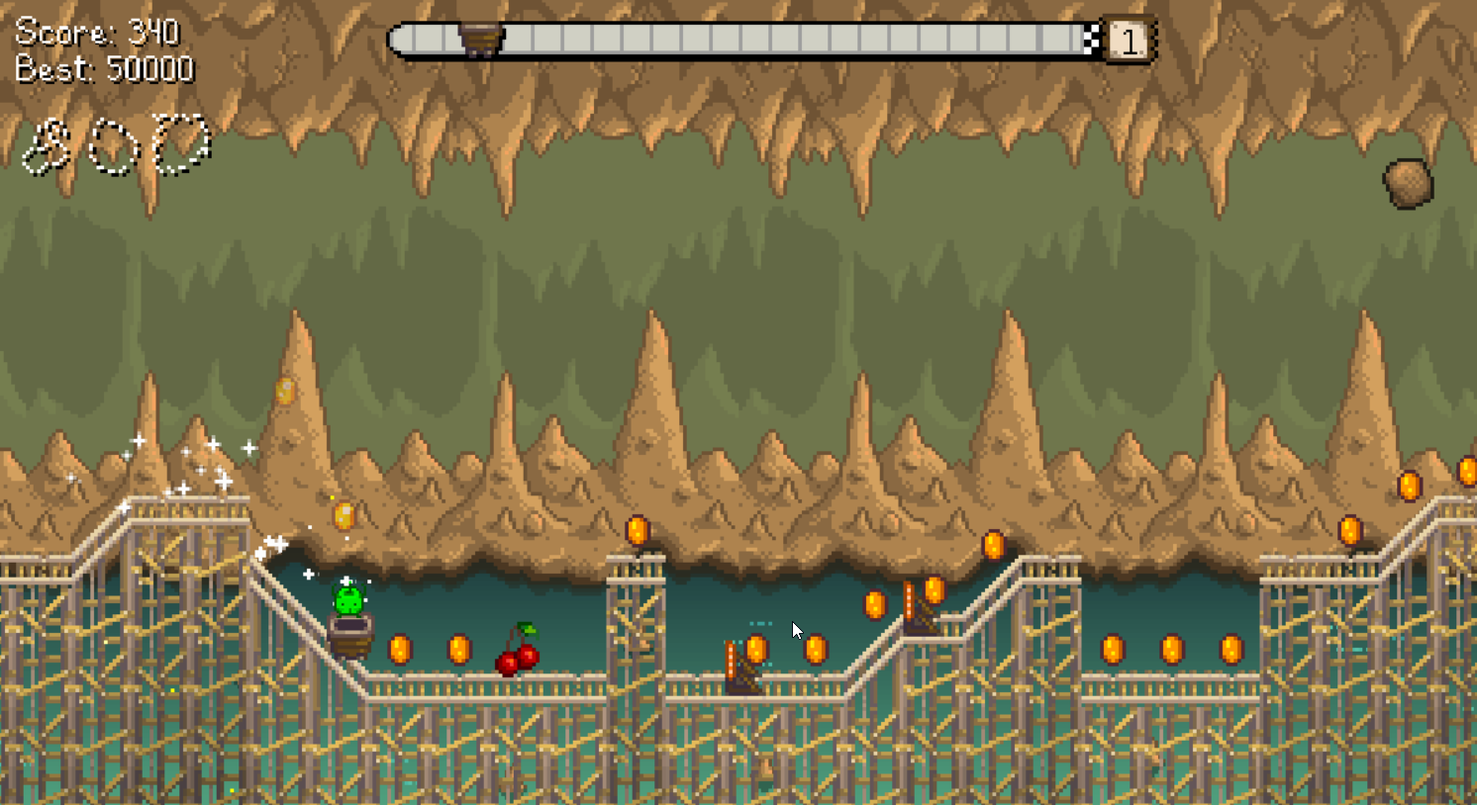barricade: (723, 640, 767, 698), (903, 582, 936, 635)
boulder: (1384, 159, 1432, 209)
cherry: (491, 613, 546, 677)
coins: (626, 514, 649, 549), (389, 633, 413, 666), (805, 633, 829, 665), (982, 529, 1006, 560), (1101, 634, 1125, 665), (1160, 634, 1184, 665), (745, 634, 768, 666), (864, 588, 887, 620), (449, 633, 471, 666), (1221, 634, 1243, 665), (1400, 471, 1422, 500), (1340, 515, 1361, 545), (924, 576, 945, 605), (1458, 455, 1476, 488)
minecart: (326, 611, 373, 660)
tracks: (658, 545, 1088, 715), (239, 544, 616, 713), (0, 490, 254, 596), (1258, 489, 1476, 593), (1077, 666, 1265, 704), (603, 551, 669, 587)
